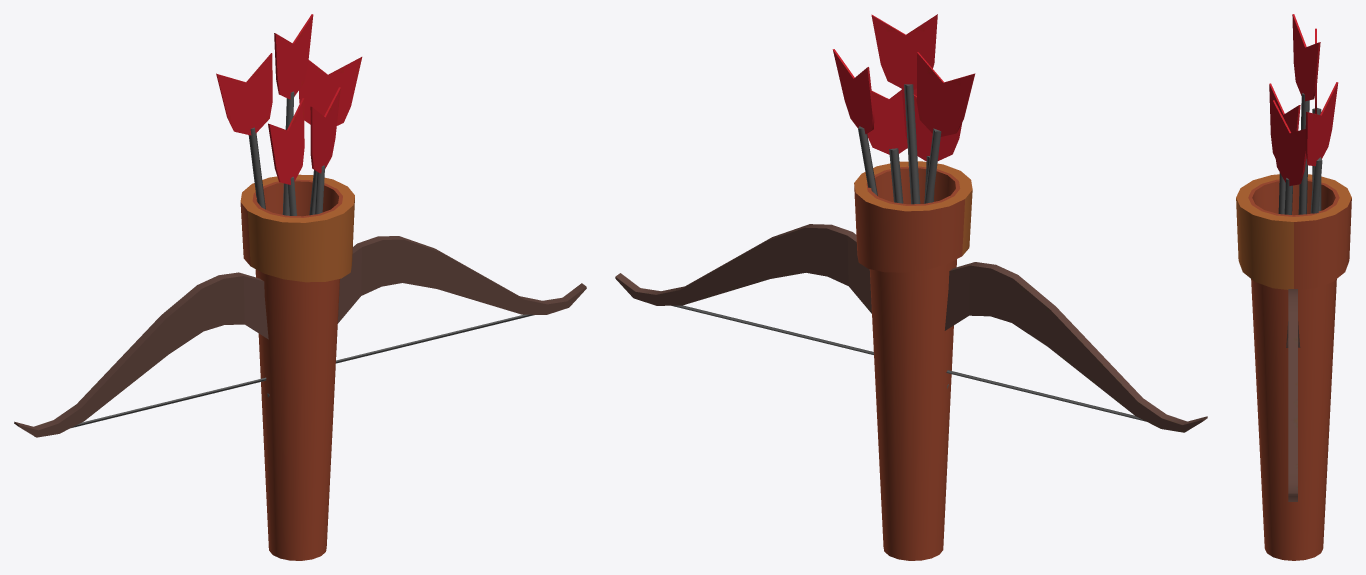
File: quiver .fbx
3 renders of one model, left to right at view 1: azimuth 30°, elevation 25°; view 2: azimuth 150°, elevation 25°; view 3: azimuth 270°, elevation 25°, orthographic. The views are drawn at different scales.
Parts seen in each view (by area): view 1: Cylinder, bow-level-1, arrow, arrow.004, arrow.001, arrow.002, arrow.003; view 2: Cylinder, bow-level-1, arrow.001, arrow, arrow.003, arrow.004, arrow.002; view 3: Cylinder, bow-level-1, arrow.003, arrow.001, arrow.004, arrow.002, arrow.
Part boxes in pixels (box(x1,y1,x2,y2)): Cylinder: box(240, 174, 354, 560); bow-level-1: box(14, 236, 586, 437); arrow: box(216, 53, 272, 209); arrow.004: box(299, 57, 362, 215); arrow.001: box(267, 14, 313, 397); arrow.002: box(268, 98, 304, 215); arrow.003: box(310, 87, 340, 214); Cylinder: box(854, 161, 972, 560); bow-level-1: box(615, 224, 1207, 432); arrow.001: box(871, 14, 948, 388); arrow: box(916, 52, 975, 203); arrow.003: box(867, 88, 916, 203); arrow.004: box(832, 49, 877, 195); arrow.002: box(902, 89, 961, 201); Cylinder: box(1236, 174, 1351, 560); bow-level-1: box(1286, 289, 1300, 501); arrow.003: box(1272, 100, 1306, 214); arrow.001: box(1292, 14, 1320, 214); arrow.004: box(1305, 82, 1338, 213); arrow.002: box(1269, 83, 1300, 214); arrow: box(1312, 28, 1321, 211).
Bounding box in the file's own units: 78.39 × 68.81 × 13.82.
